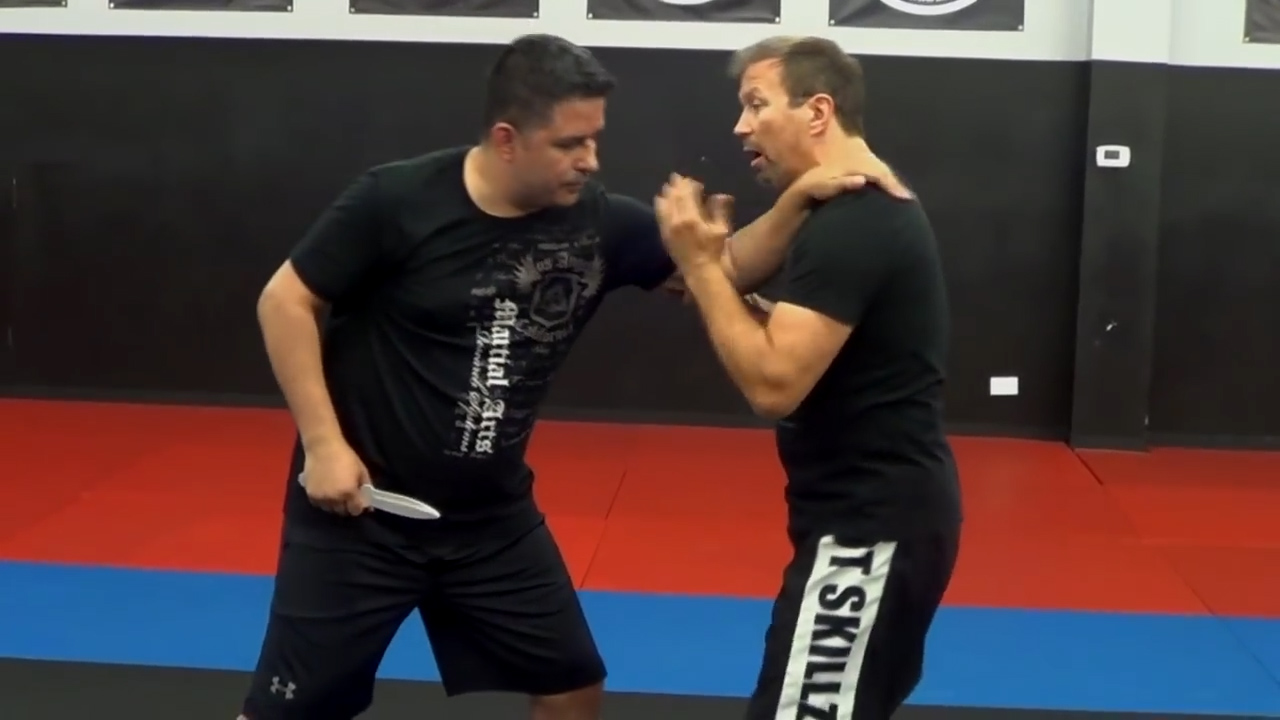knife: (296, 468, 447, 528)
